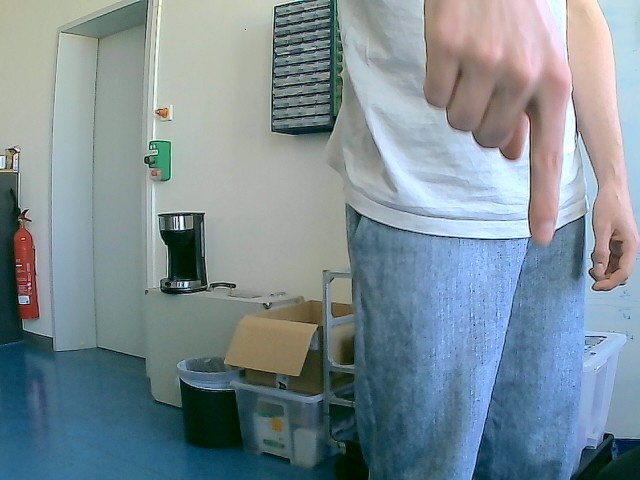down: (421, 1, 573, 247)
no_gesture: (588, 186, 640, 293)
